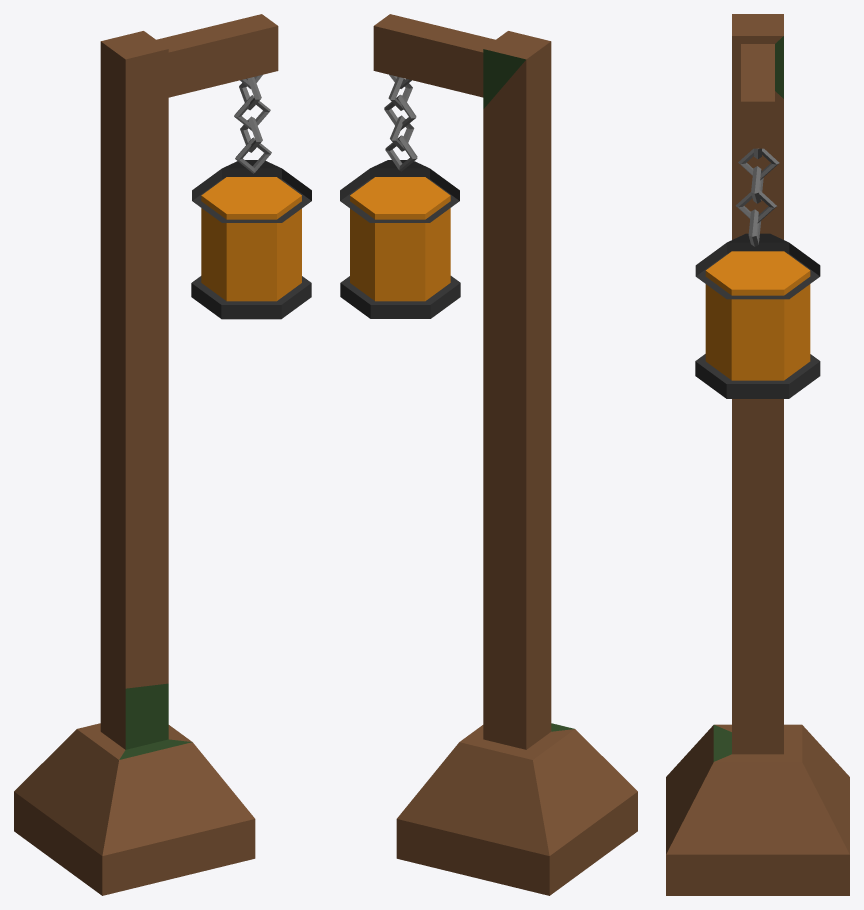
Rendered from LanternOnPole01.fbx.
3 renders of one model, left to right at view 1: azimuth 30°, elevation 25°; view 2: azimuth 150°, elevation 25°; view 3: azimuth 270°, elevation 25°, orthographic. The views are drawn at different scales.
Visible parts, largest first — view 1: Cube.001; view 2: Cube.001; view 3: Cube.001.
Part boxes in pixels (x1,y1,x2,y2): Cube.001: (14, 14, 311, 895); Cube.001: (340, 14, 637, 895); Cube.001: (666, 14, 849, 895).
Bounding box in the file's own units: 108 × 344 × 68.9.
